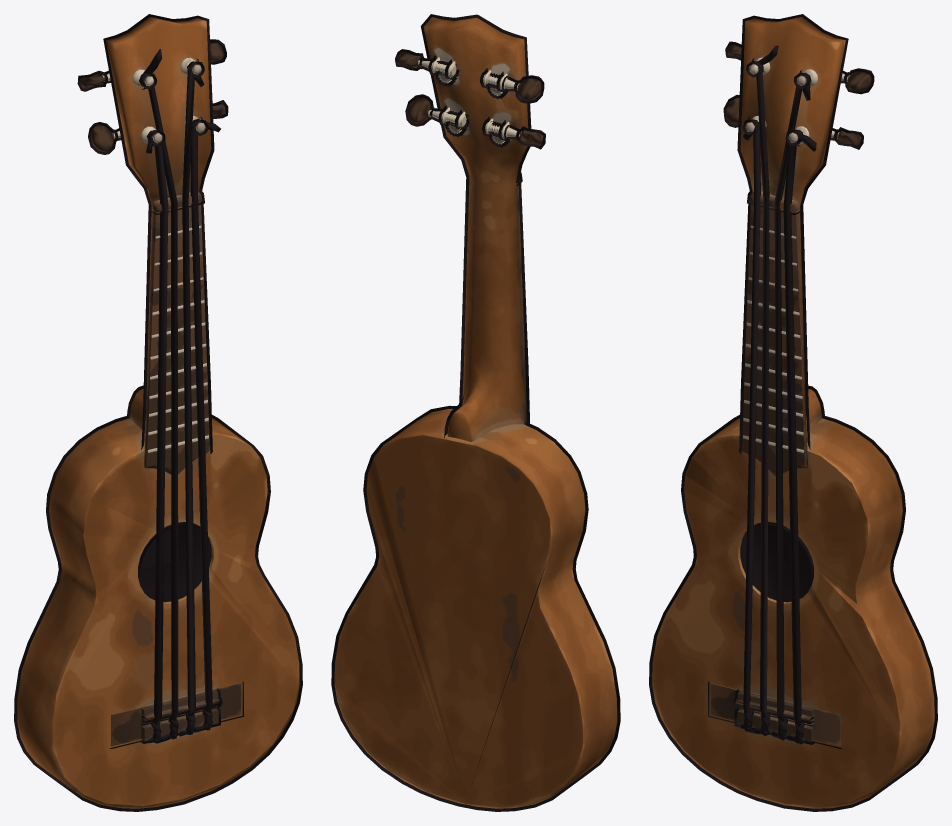
File: SM_Int_Ukulele.fbx
The picture shows the model from 3 angles, left to right: view 1: azimuth 30°, elevation 25°; view 2: azimuth 150°, elevation 25°; view 3: azimuth 330°, elevation 25°; orthographic projection.
Parts seen in each view (by area): view 1: SM_Int_Ukulele; view 2: SM_Int_Ukulele; view 3: SM_Int_Ukulele.
Boxes of the visible parts, x1=… form: SM_Int_Ukulele: x1=14, y1=14, x2=302, y2=811; SM_Int_Ukulele: x1=331, y1=14, x2=620, y2=811; SM_Int_Ukulele: x1=649, y1=14, x2=937, y2=811.
Bounding box in the file's own units: 0.1814 × 0.5305 × 0.0547.
